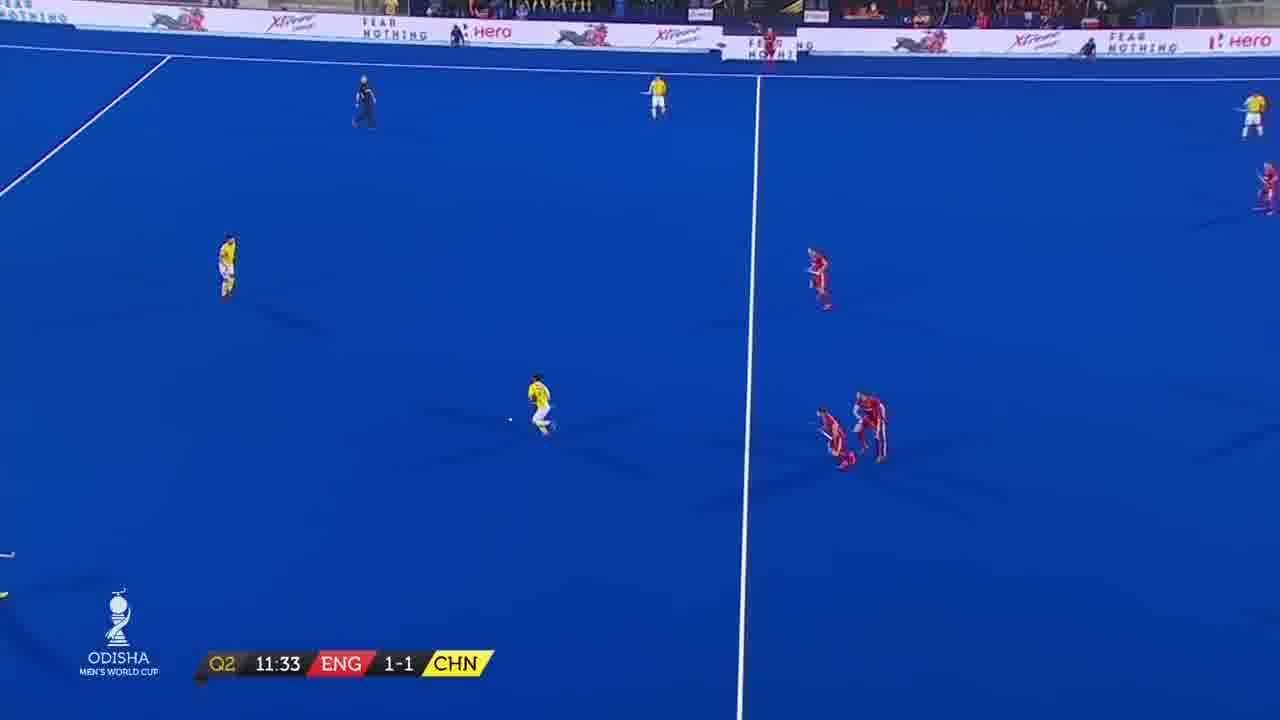ball: (507, 417, 515, 424)
